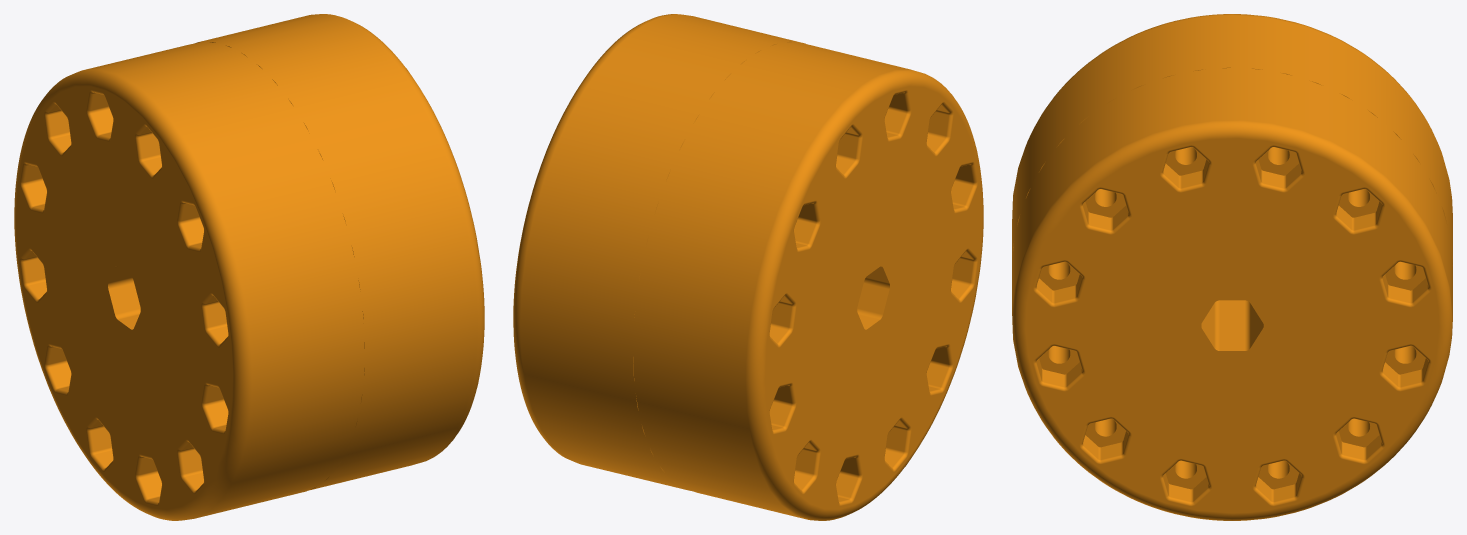
3 views of the same model, side by side, from view 1: azimuth 30°, elevation 25°; view 2: azimuth 150°, elevation 25°; view 3: azimuth 270°, elevation 25° (orthographic). The views are drawn at different scales.
Parts seen in each view (by area): view 1: Shooter4.0" v2:2, Shooter4.0" v2:1; view 2: Shooter4.0" v2:2, Shooter4.0" v2:1; view 3: Shooter4.0" v2:1, Shooter4.0" v2:2.
Part boxes in pixels (x1,y1,x2,y2): Shooter4.0" v2:2: (14,41,364,520); Shooter4.0" v2:1: (194,14,484,490); Shooter4.0" v2:2: (633,42,983,520); Shooter4.0" v2:1: (513,14,805,490); Shooter4.0" v2:1: (1012,68,1452,520); Shooter4.0" v2:2: (1012,14,1452,265).
Size of the model in its own units: 0.0635 by 0.1016 by 0.1016.
